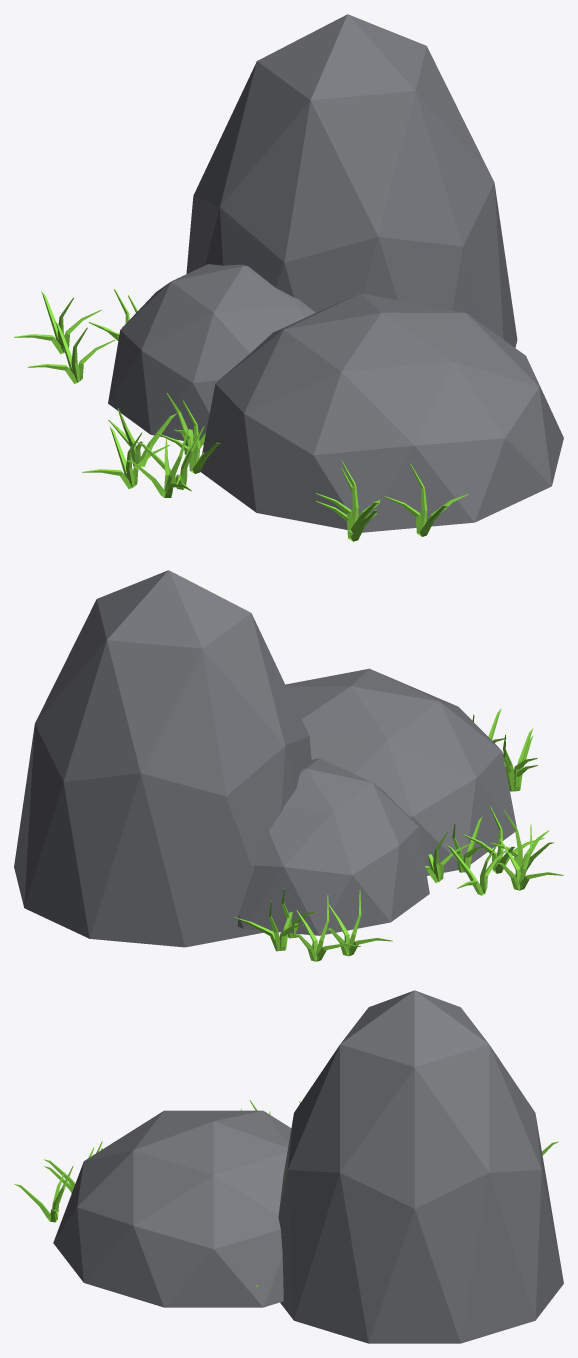
File: rock0.glb
3 renders of one model, top to bottom at view 1: azimuth 30°, elevation 25°; view 2: azimuth 150°, elevation 25°; view 3: azimuth 270°, elevation 25°, orthographic. The views are drawn at different scales.
Parts seen in each view (by area): view 1: Icosphere.002, Icosphere, Icosphere.001, Plane.006, Plane.012, Plane, Plane.008, Plane.016, Plane.001, Plane.015, Plane.011; view 2: Icosphere.002, Icosphere, Icosphere.001, Plane.008, Plane.012, Plane.015, Plane.006, Plane.007, Plane.014, Plane.016, Plane.013, Plane.001 (+1 smaller); view 3: Icosphere.002, Icosphere, Plane.
Boxes of the visible parts, bbox=[...] form: Icosphere.002: bbox=[186, 14, 517, 347]; Icosphere: bbox=[200, 293, 563, 532]; Icosphere.001: bbox=[108, 264, 315, 444]; Plane.006: bbox=[28, 321, 114, 383]; Plane.012: bbox=[82, 426, 169, 488]; Plane: bbox=[384, 463, 468, 536]; Plane.008: bbox=[14, 291, 101, 354]; Plane.016: bbox=[125, 429, 191, 497]; Plane.001: bbox=[315, 460, 380, 533]; Plane.015: bbox=[108, 408, 177, 467]; Plane.011: bbox=[157, 400, 220, 473]; Icosphere.002: bbox=[14, 570, 311, 947]; Icosphere: bbox=[285, 668, 516, 875]; Icosphere.001: bbox=[237, 758, 429, 935]; Plane.008: bbox=[295, 895, 360, 961]; Plane.012: bbox=[498, 824, 563, 890]; Plane.015: bbox=[446, 840, 509, 895]; Plane.006: bbox=[327, 890, 392, 956]; Plane.007: bbox=[234, 901, 303, 951]; Plane.014: bbox=[463, 806, 544, 873]; Plane.016: bbox=[490, 810, 554, 872]; Plane.013: bbox=[425, 831, 472, 882]; Plane.001: bbox=[503, 728, 537, 784]; Icosphere.002: bbox=[278, 990, 563, 1343]; Icosphere: bbox=[53, 1110, 291, 1307]; Plane: bbox=[14, 1166, 73, 1222].
Bounding box in the file's own units: 17.9 × 11.85 × 20.14.
